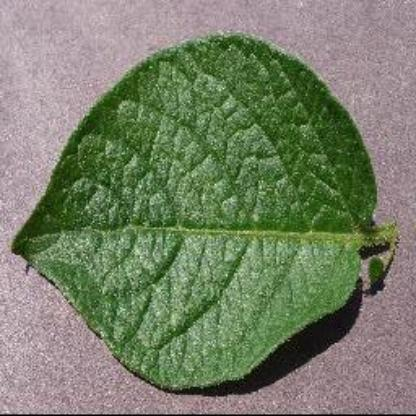Healthy-plant: (9, 31, 398, 393)
